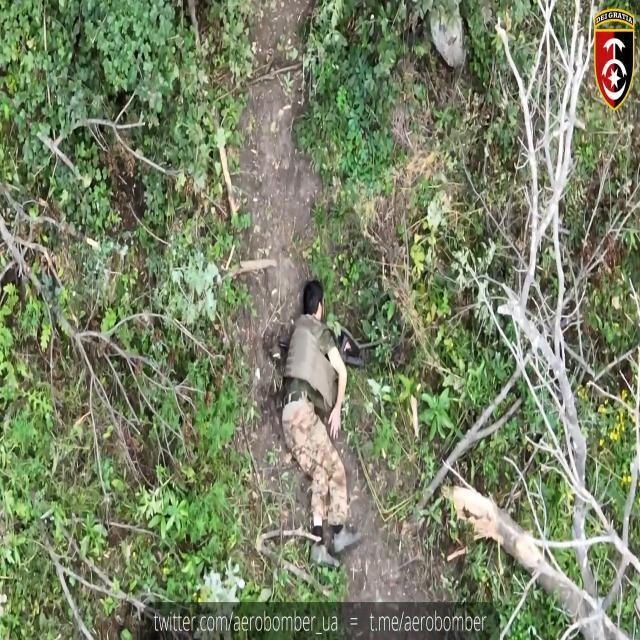MIL_Pax: (281, 280, 361, 567)
